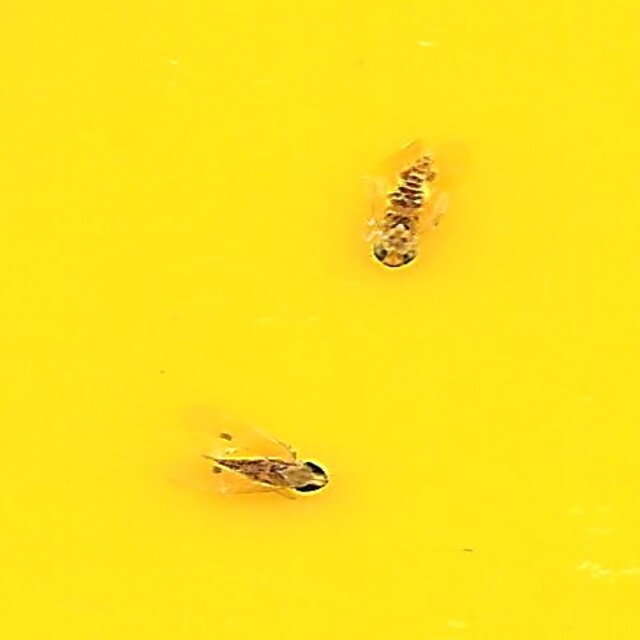Hemiptera: (176, 403, 324, 509), (360, 131, 464, 272)
